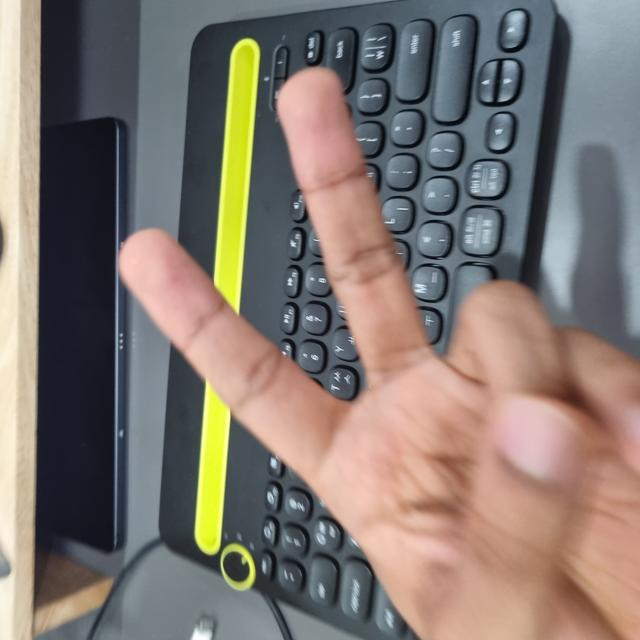Scissors: (0, 121, 573, 638)
